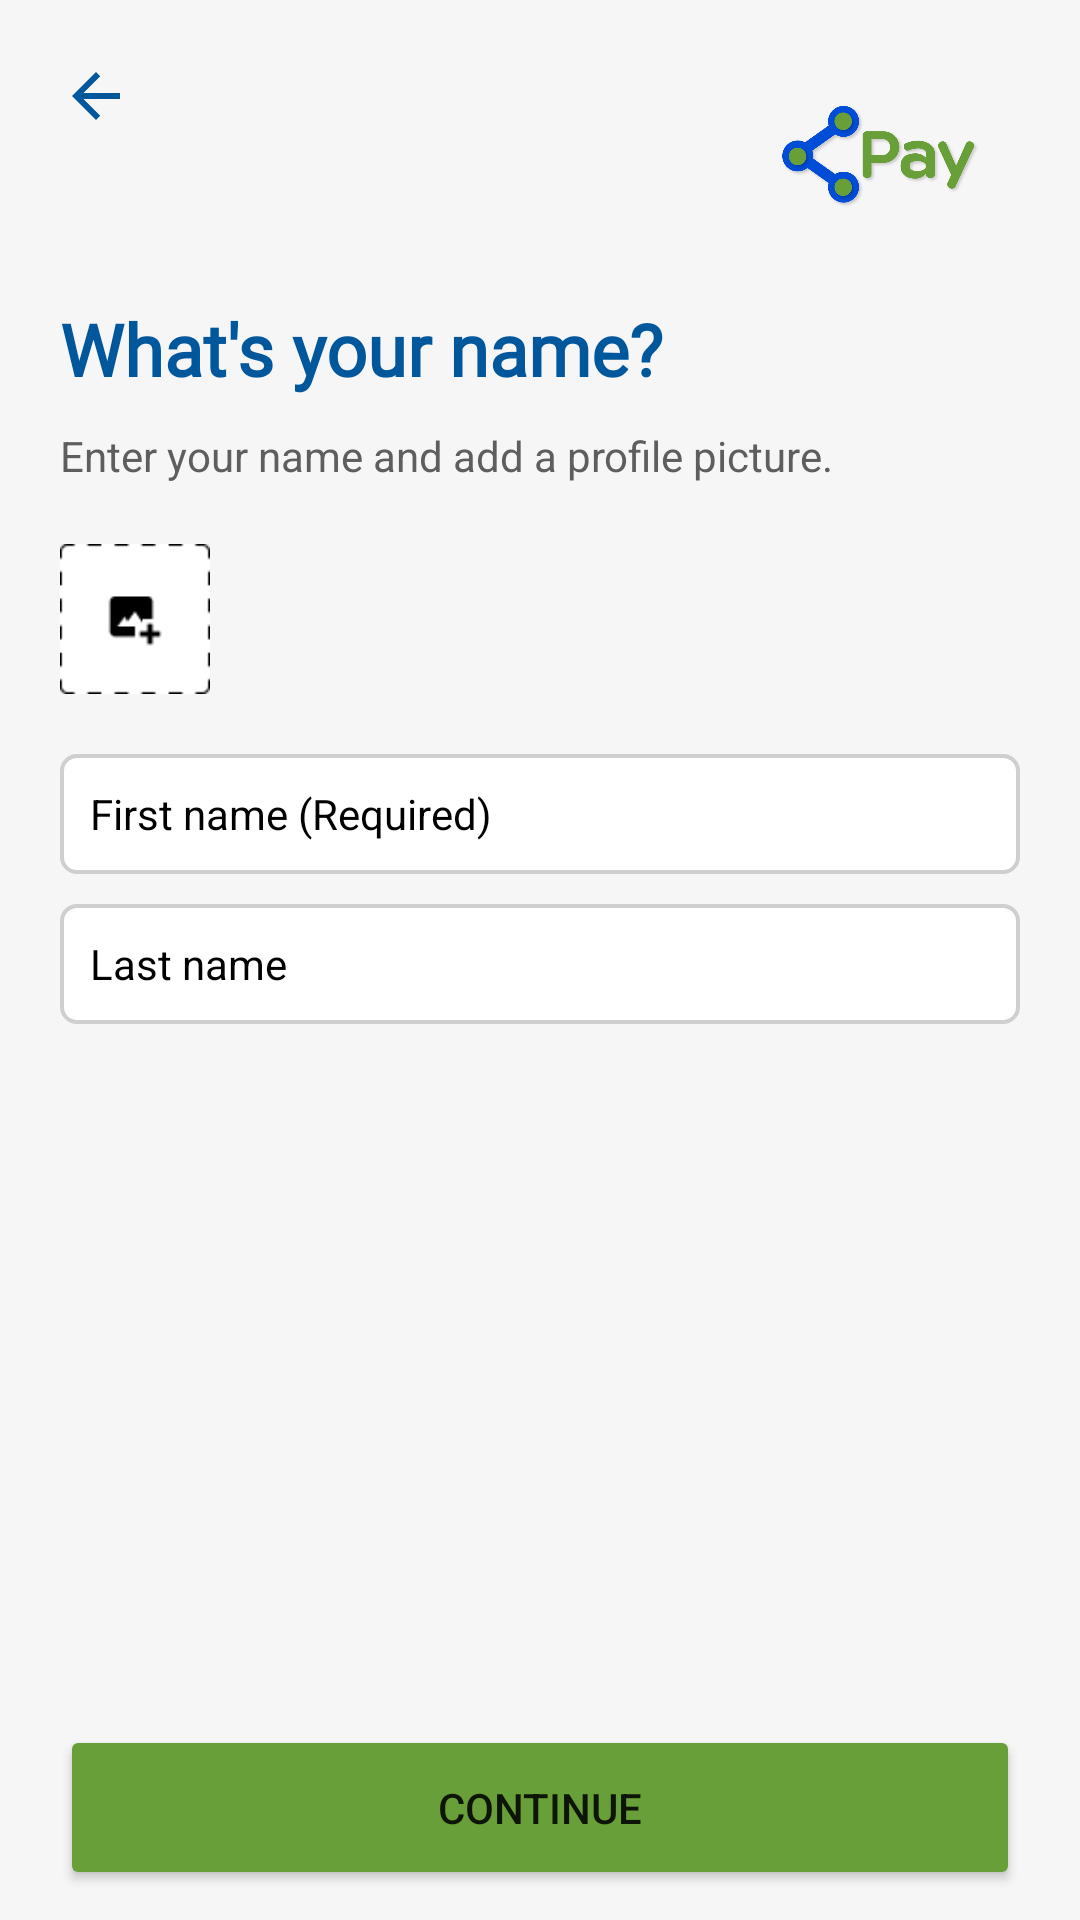

Where to tap for icons on this 1080w x 1920h app screen, as (x=x, y=y):
back: (x=96, y=96)
upload: (x=135, y=619)
